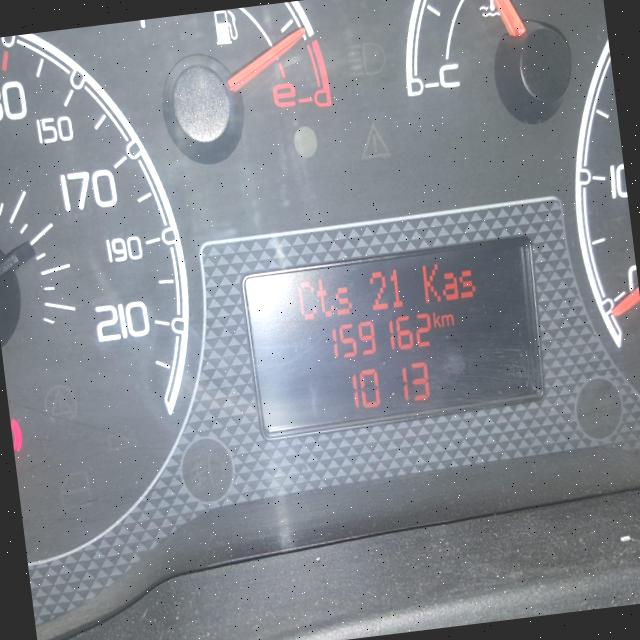odometer: (236, 229, 552, 444)
